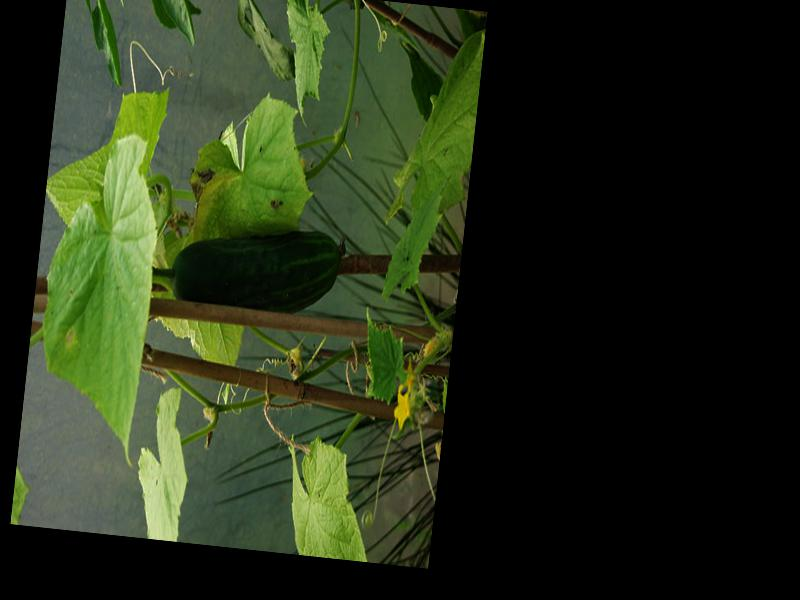Cucumber: (168, 214, 346, 319)
